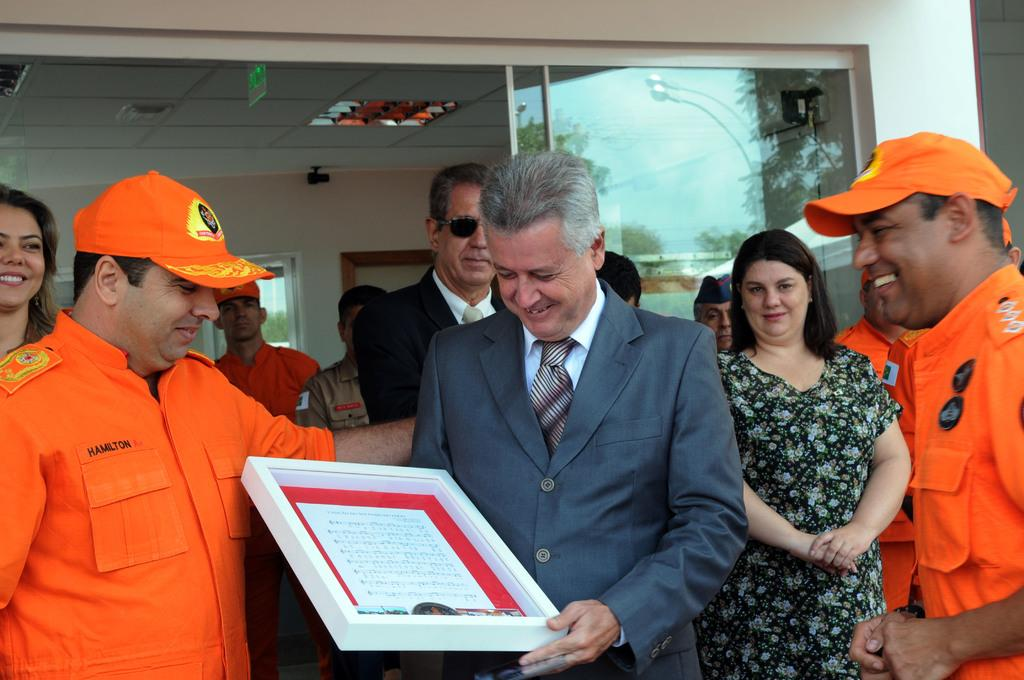Hat: (72, 168, 274, 292), (802, 130, 1017, 236), (216, 280, 261, 304), (1002, 217, 1012, 244)
